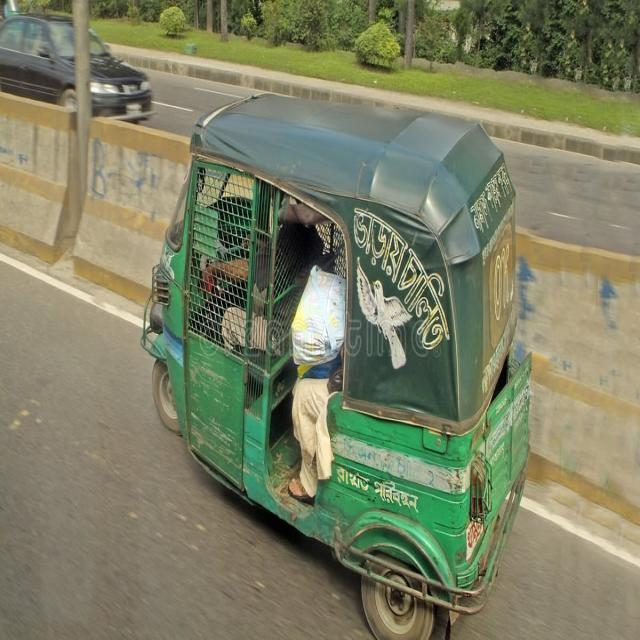CNG: (130, 78, 553, 640)
Car: (1, 1, 166, 156)
